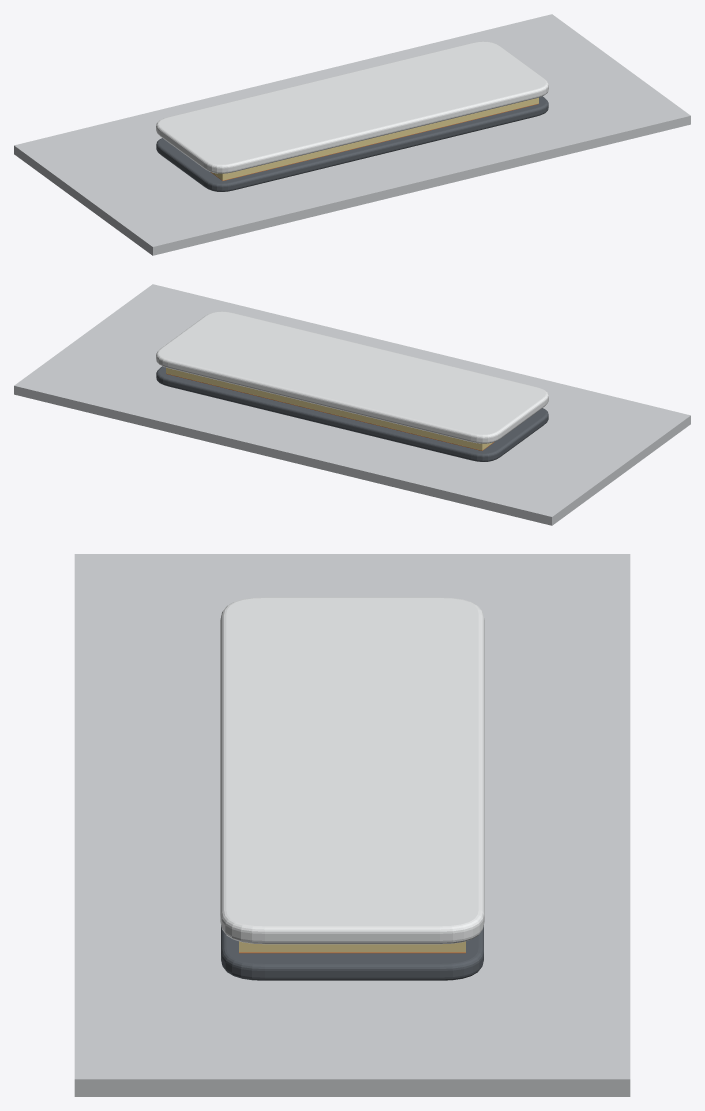
Rendered from p11-Tag UHF na metal.glb.
The picture shows the model from 3 angles, top to bottom: view 1: azimuth 30°, elevation 25°; view 2: azimuth 150°, elevation 25°; view 3: azimuth 270°, elevation 25°; orthographic projection. The views are drawn at different scales.
Parts seen in each view (by area): view 1: Podłoże metalowe (np. ściana kontenera), Obudowa ABS – pokrywa, Spód z otworami montażowymi, Przekładka dielektryczna (dystans); view 2: Podłoże metalowe (np. ściana kontenera), Obudowa ABS – pokrywa, Spód z otworami montażowymi, Przekładka dielektryczna (dystans); view 3: Podłoże metalowe (np. ściana kontenera), Obudowa ABS – pokrywa, Spód z otworami montażowymi, Przekładka dielektryczna (dystans).
Part boxes in pixels (<box>): Podłoże metalowe (np. ściana kontenera): <box>14,14,690,255</box>; Obudowa ABS – pokrywa: <box>156,41,548,173</box>; Spód z otworami montażowymi: <box>156,96,548,191</box>; Przekładka dielektryczna (dystans): <box>212,97,538,180</box>; Podłoże metalowe (np. ściana kontenera): <box>14,284,690,525</box>; Obudowa ABS – pokrywa: <box>156,311,548,443</box>; Spód z otworami montażowymi: <box>156,366,548,461</box>; Przekładka dielektryczna (dystans): <box>166,367,492,450</box>; Podłoże metalowe (np. ściana kontenera): <box>74,554,630,1096</box>; Obudowa ABS – pokrywa: <box>220,597,484,944</box>; Spód z otworami montażowymi: <box>221,925,483,980</box>; Przekładka dielektryczna (dystans): <box>239,941,465,952</box>.
Bounding box in the file's own units: 0.128 × 0.0082 × 0.0572.
